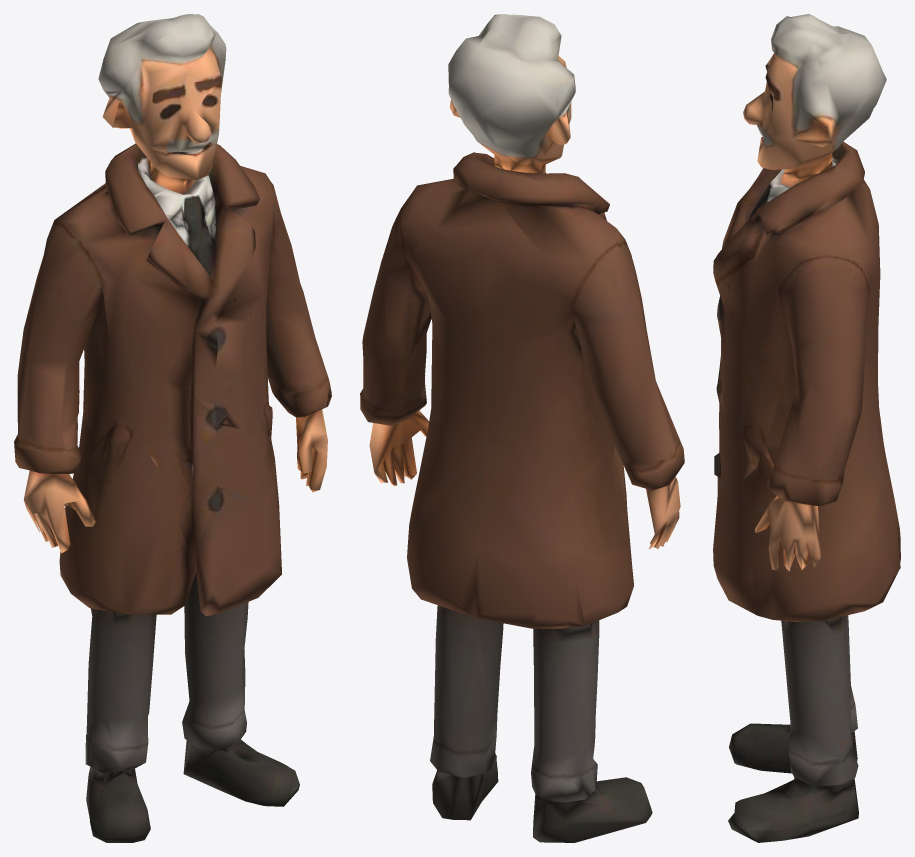
Rendered from person_older.glb.
3 renders of one model, left to right at view 1: azimuth 30°, elevation 25°; view 2: azimuth 150°, elevation 25°; view 3: azimuth 270°, elevation 25°, orthographic. The views are drawn at different scales.
Parts seen in each view (by area): view 1: tripo_node_5cb98a85-7b6c-4bd4-b116-31fc1b695258; view 2: tripo_node_5cb98a85-7b6c-4bd4-b116-31fc1b695258; view 3: tripo_node_5cb98a85-7b6c-4bd4-b116-31fc1b695258.
Boxes of the visible parts, <box> form: tripo_node_5cb98a85-7b6c-4bd4-b116-31fc1b695258: <box>14,14,331,842</box>; tripo_node_5cb98a85-7b6c-4bd4-b116-31fc1b695258: <box>360,14,684,842</box>; tripo_node_5cb98a85-7b6c-4bd4-b116-31fc1b695258: <box>713,14,900,842</box>.
Size of the model in its own units: 0.3999 by 0.9788 by 0.2148.
Materials: 1 (1 with a texture image).
